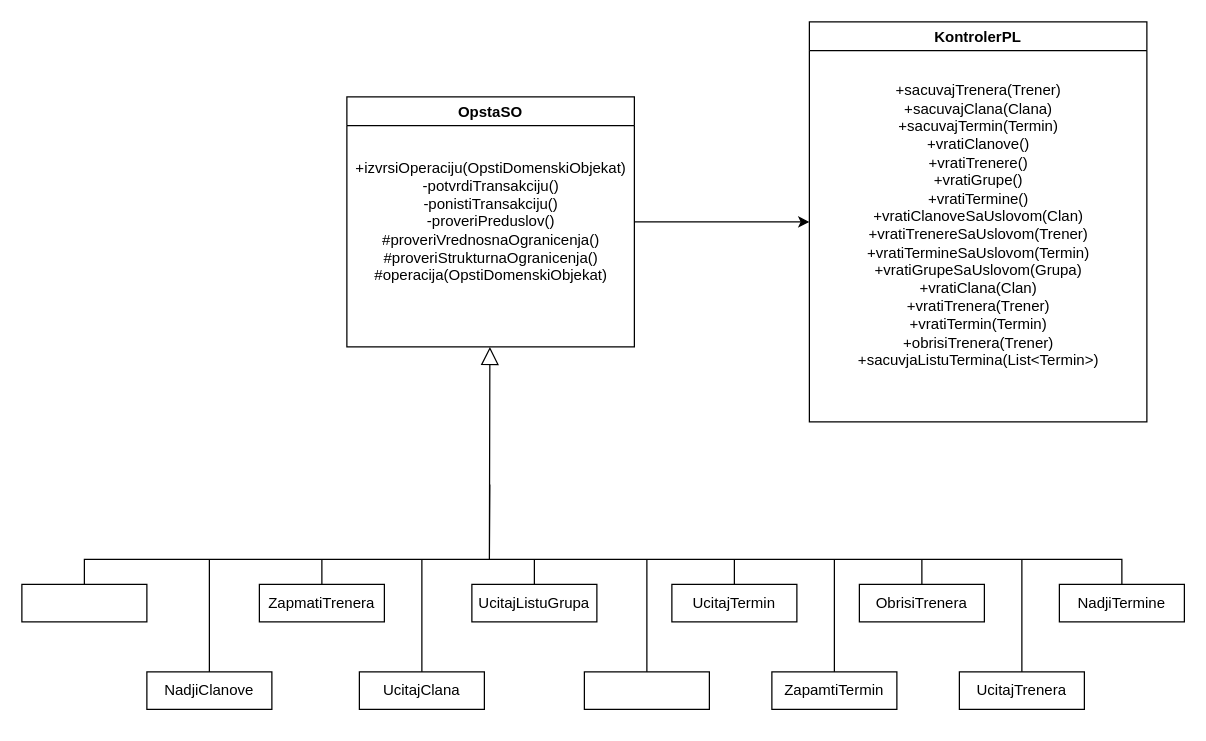
The diagram is 1206 pixels wide and 741 high, and some of its shapes have lost their labels. The centre of each missing label's shape, as x and y in pixels:
"NadjiTrenere" belongs at [646,690].
"ZapamtiClana" belongs at [84,602].
